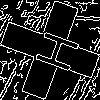H: (25, 25, 81, 75)
